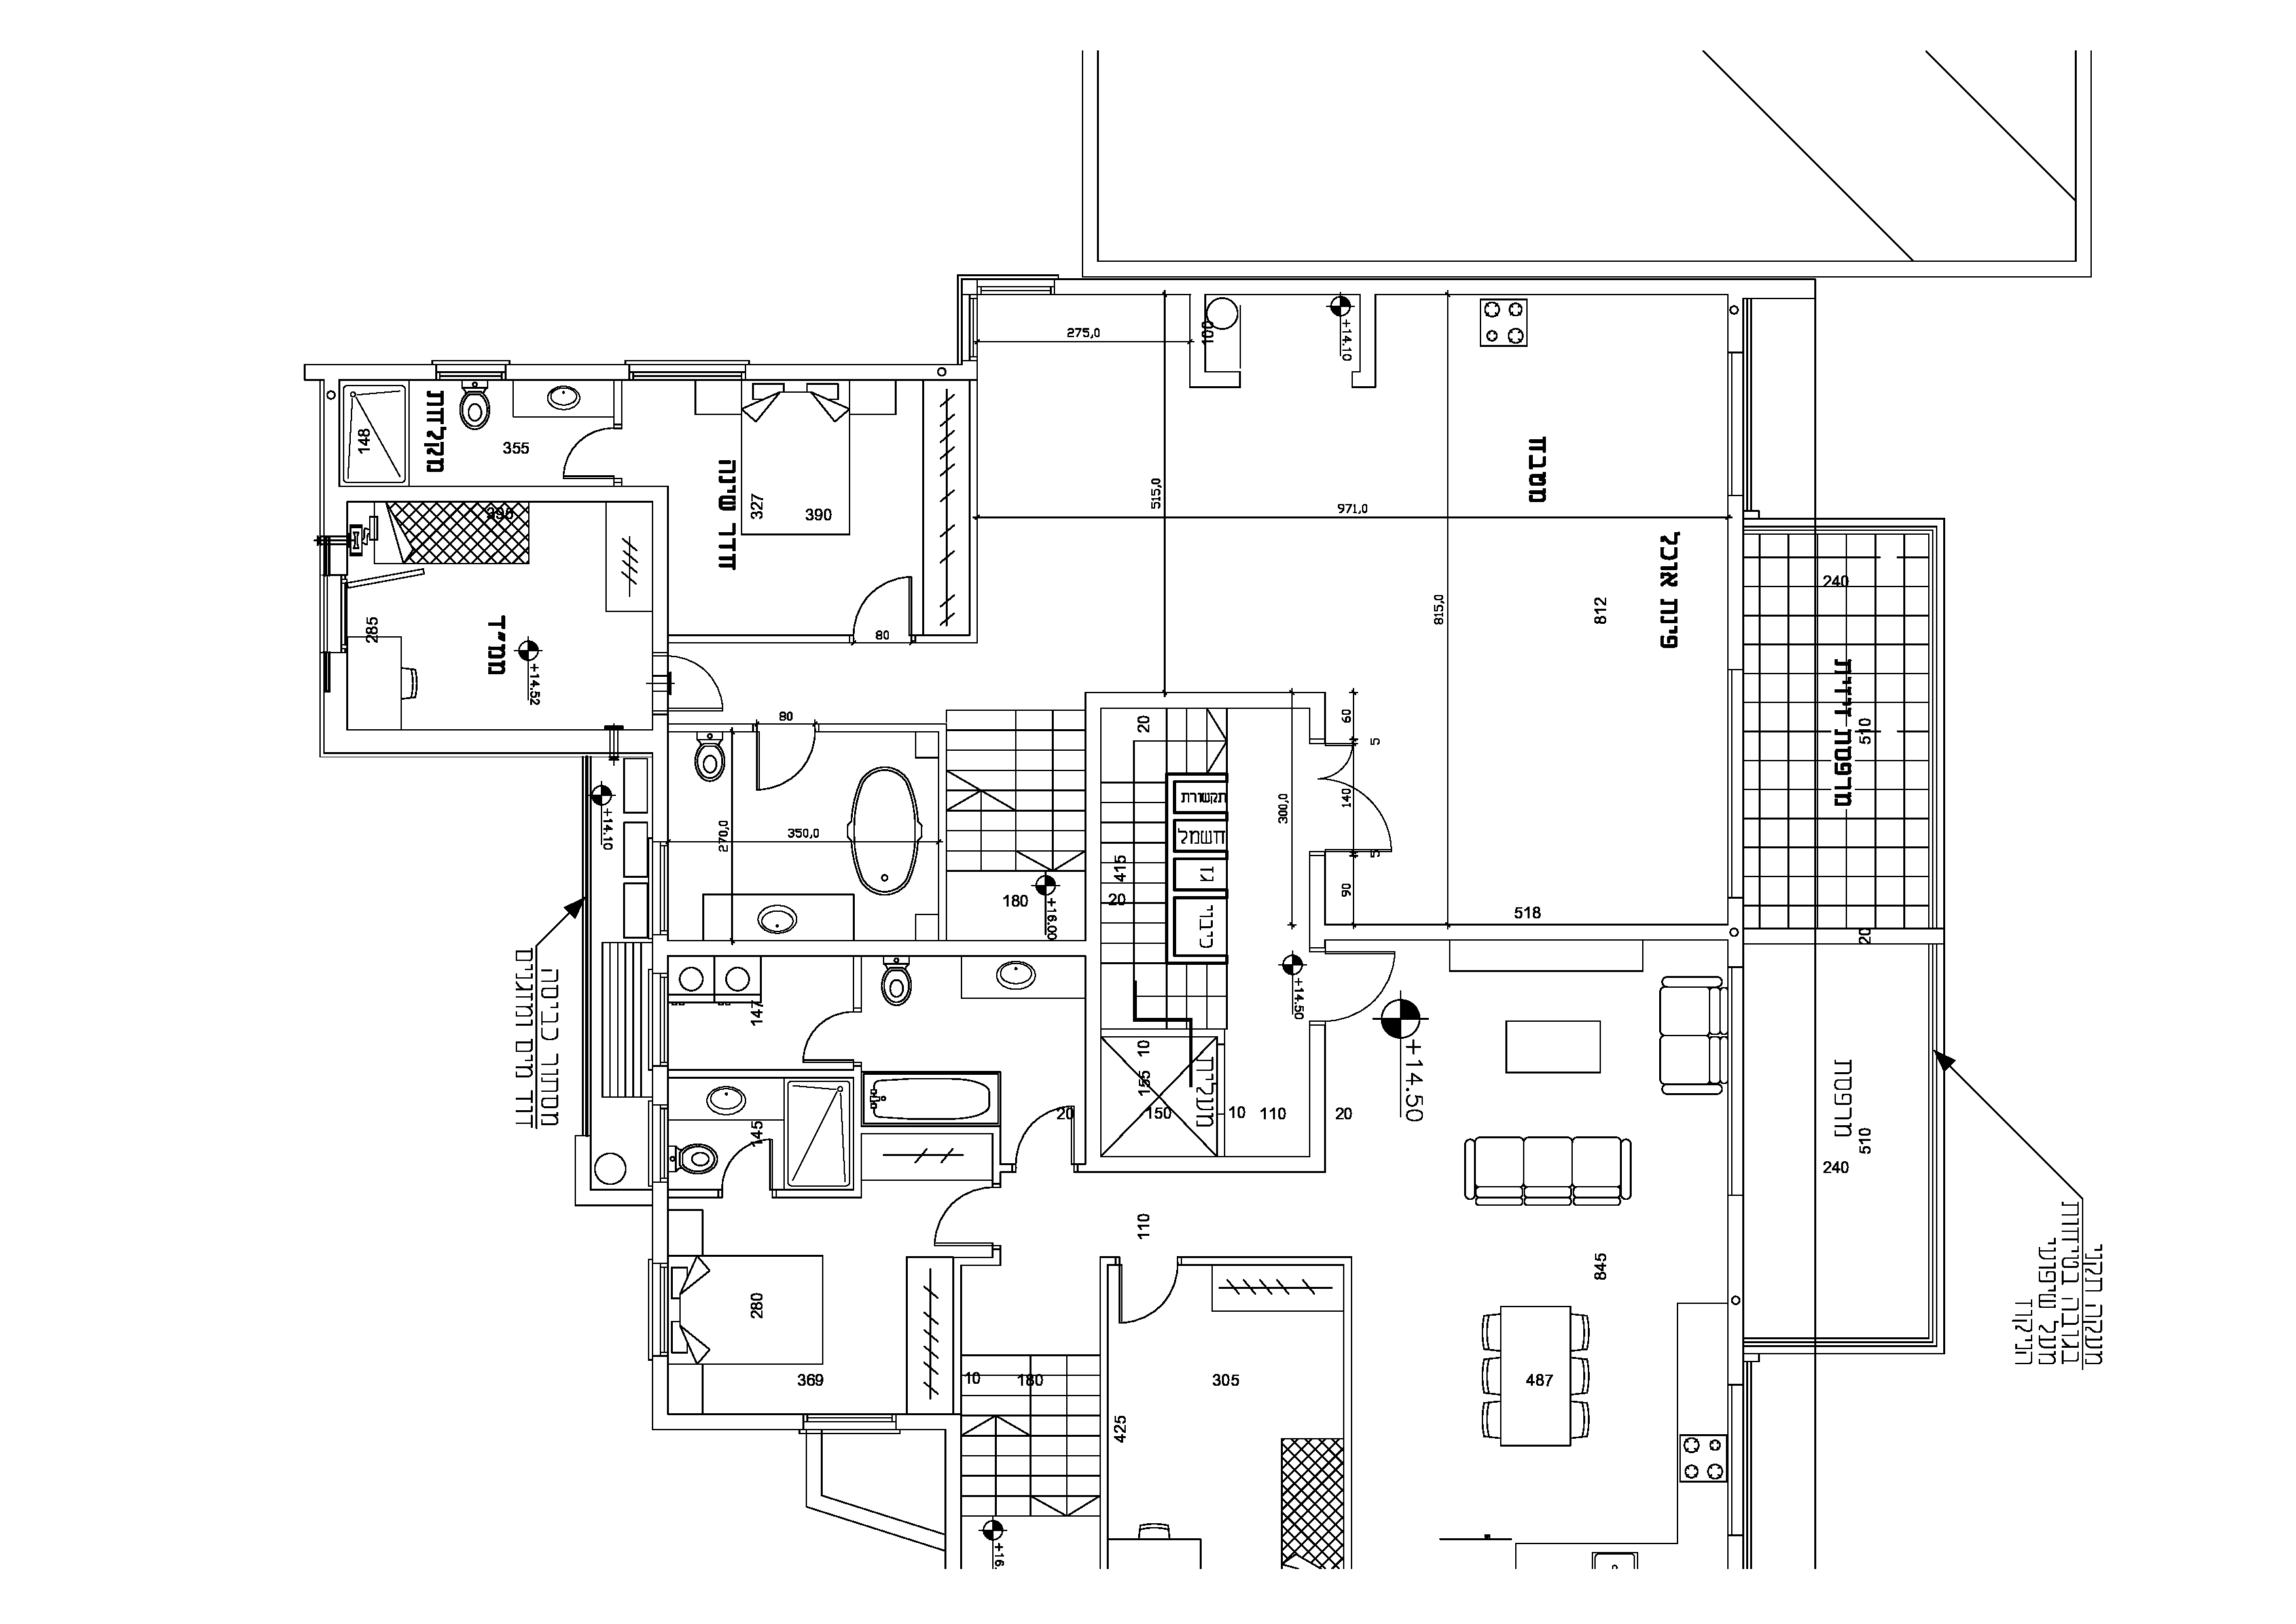door: (1319, 773, 1397, 854), (919, 1186, 987, 1248), (1112, 1274, 1180, 1332), (1012, 1098, 1079, 1155), (1333, 947, 1397, 1005), (857, 571, 917, 629), (557, 425, 615, 485), (678, 654, 738, 712), (555, 424, 613, 483), (750, 742, 808, 800), (724, 1134, 782, 1183), (794, 1014, 852, 1063)
window: (639, 1260, 676, 1359), (805, 1408, 899, 1445), (645, 972, 675, 1072), (629, 359, 745, 383), (646, 838, 671, 937), (977, 272, 1058, 302), (643, 1104, 673, 1185), (436, 357, 506, 385)
